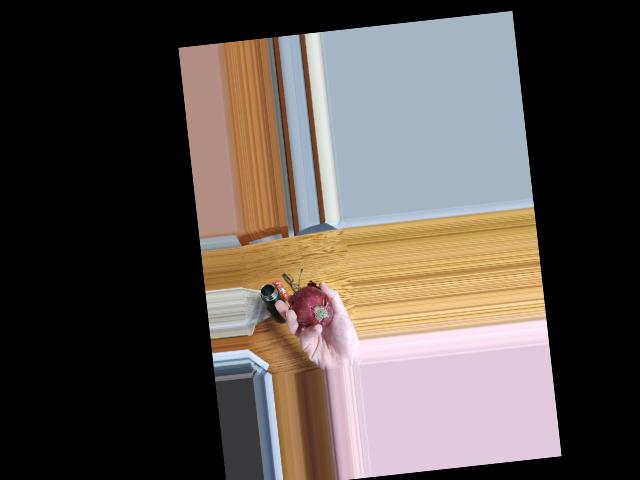onion: (292, 284, 333, 330)
